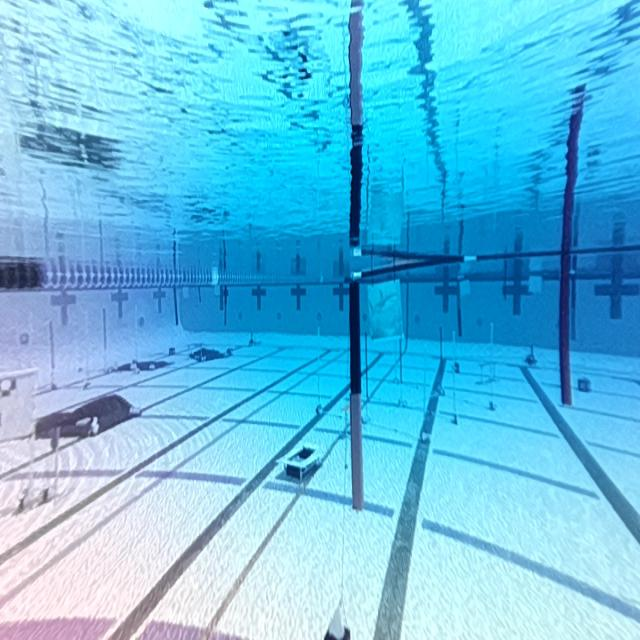round_nose: (366, 280, 402, 334)
